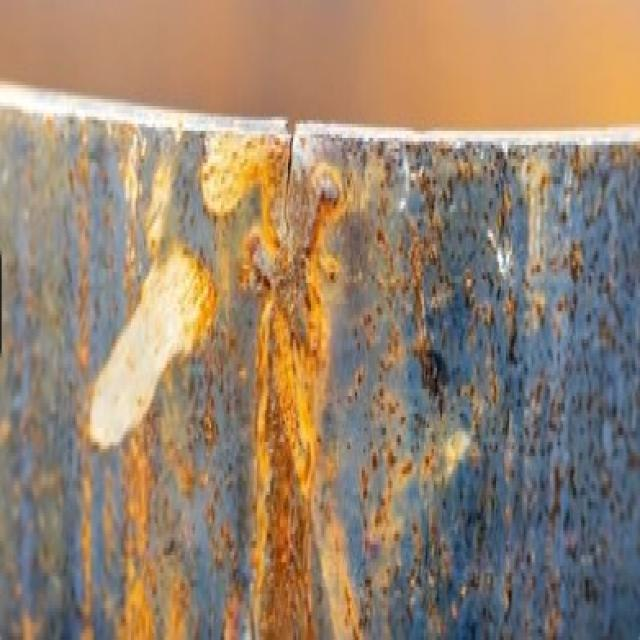Bad Welding: (219, 109, 331, 636)
Crack: (258, 120, 310, 227)
